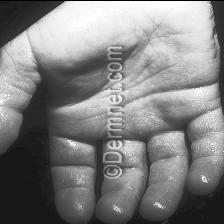Non-Cancerous Skin Condition: (0, 0, 113, 213), (132, 0, 208, 156), (62, 16, 98, 166)
